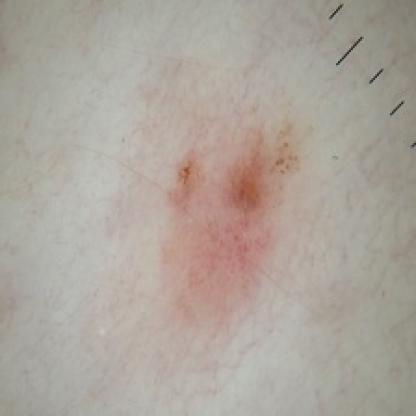malignant: (180, 121, 281, 306)
